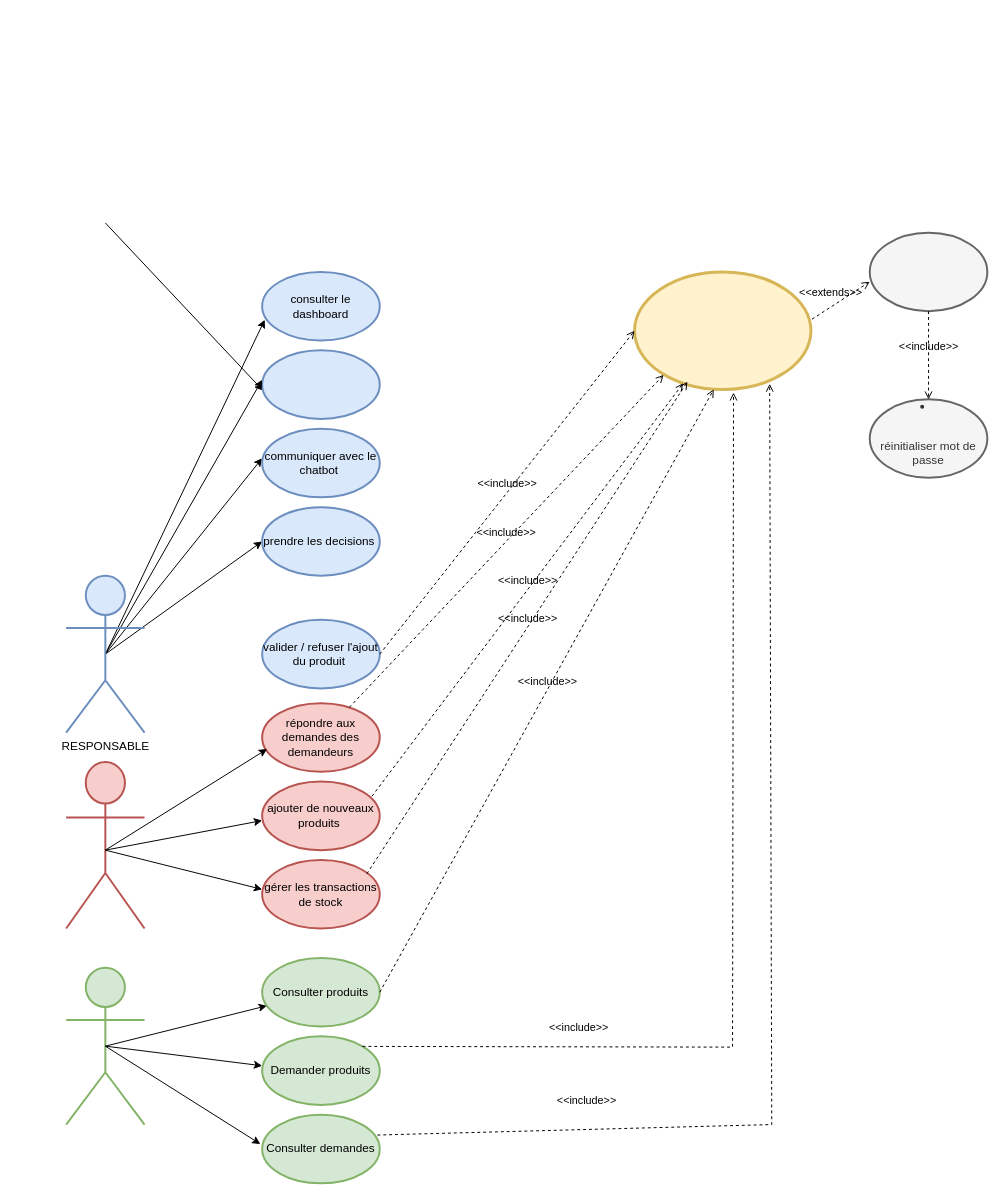
The diagram is 1005 pixels wide and 1201 high, and some of its shapes have lost their labels. Here are the shapes that lost their labels. From the top down, the centre of each, then its label:
point (928, 271): mot de passe oublié"
point (722, 330): S'authetifier
point (320, 384): suivre les alertes
point (105, 844): MAGASINIER
point (105, 1045): DEMANDEUR
